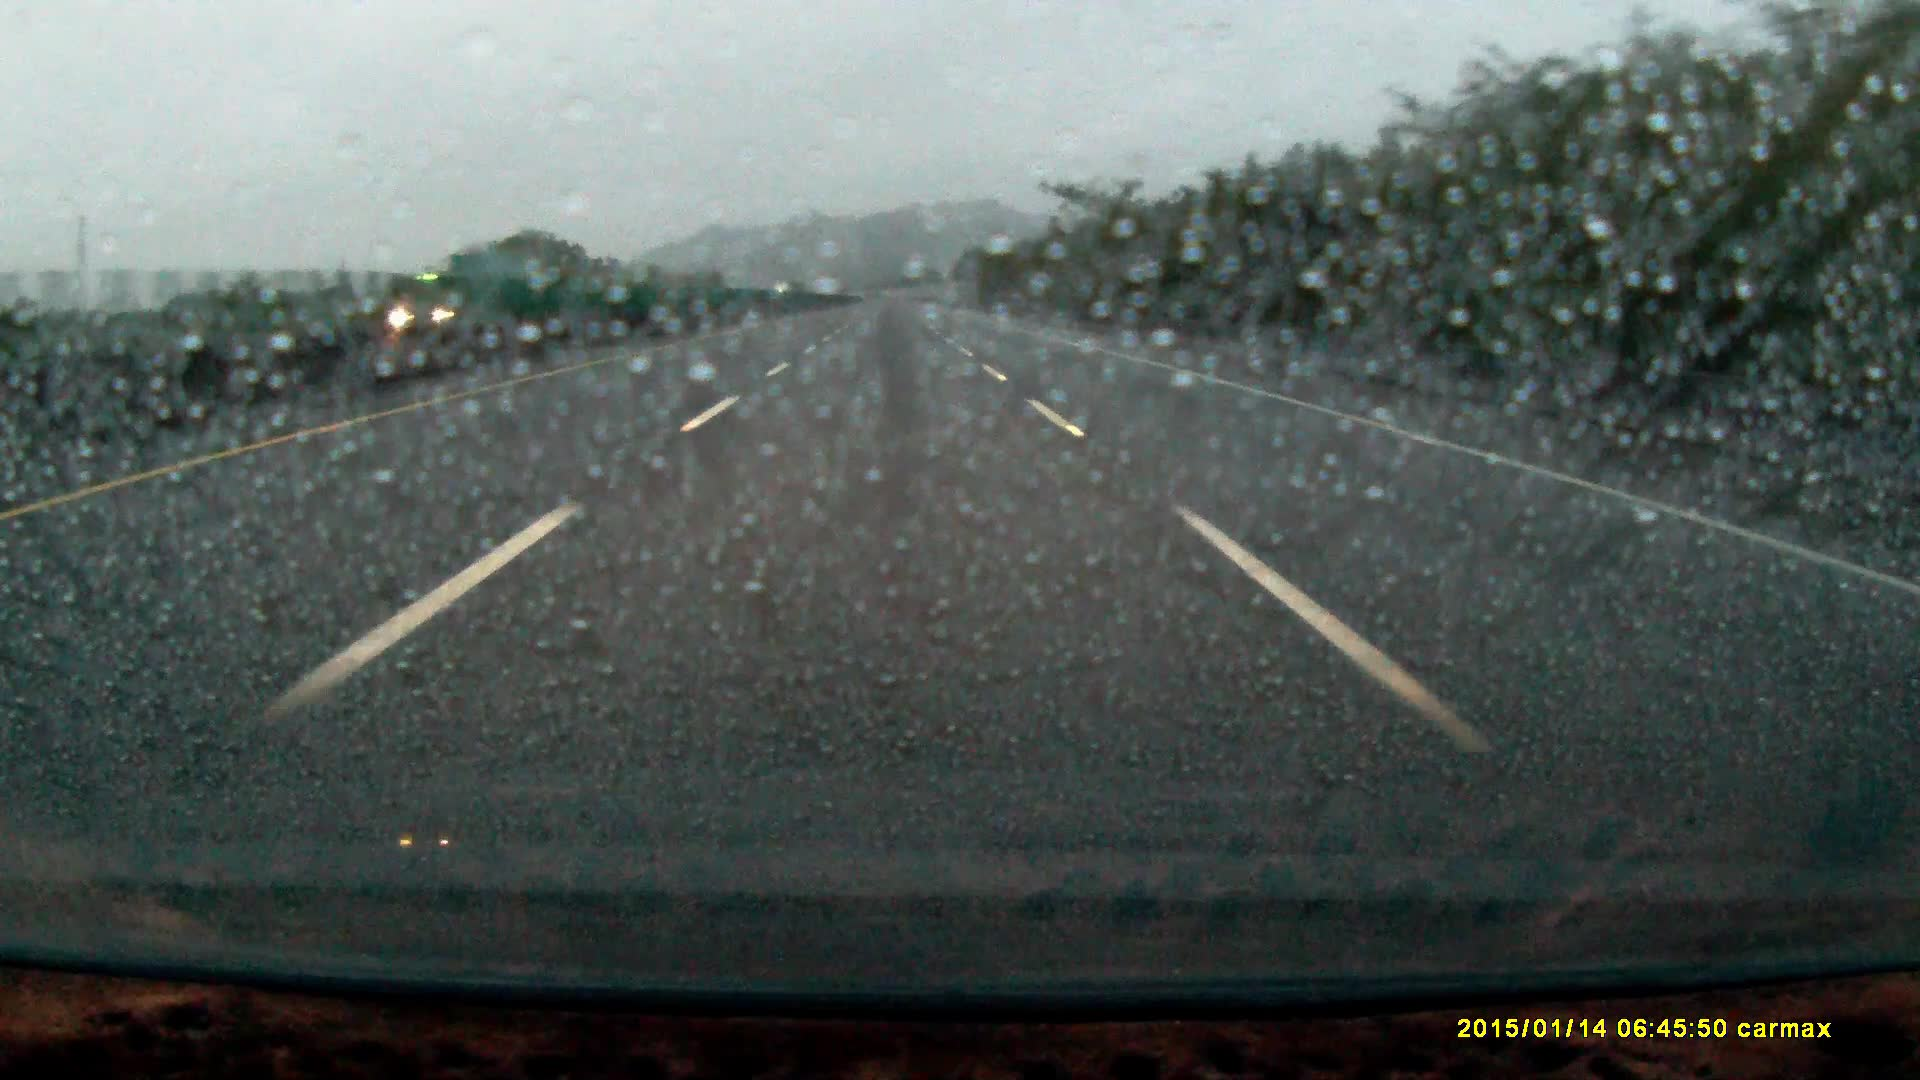vehicle: (386, 256, 534, 340)
